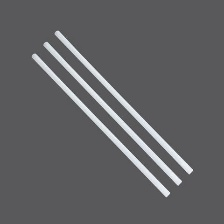drinking_straw: (26, 24, 199, 203)
